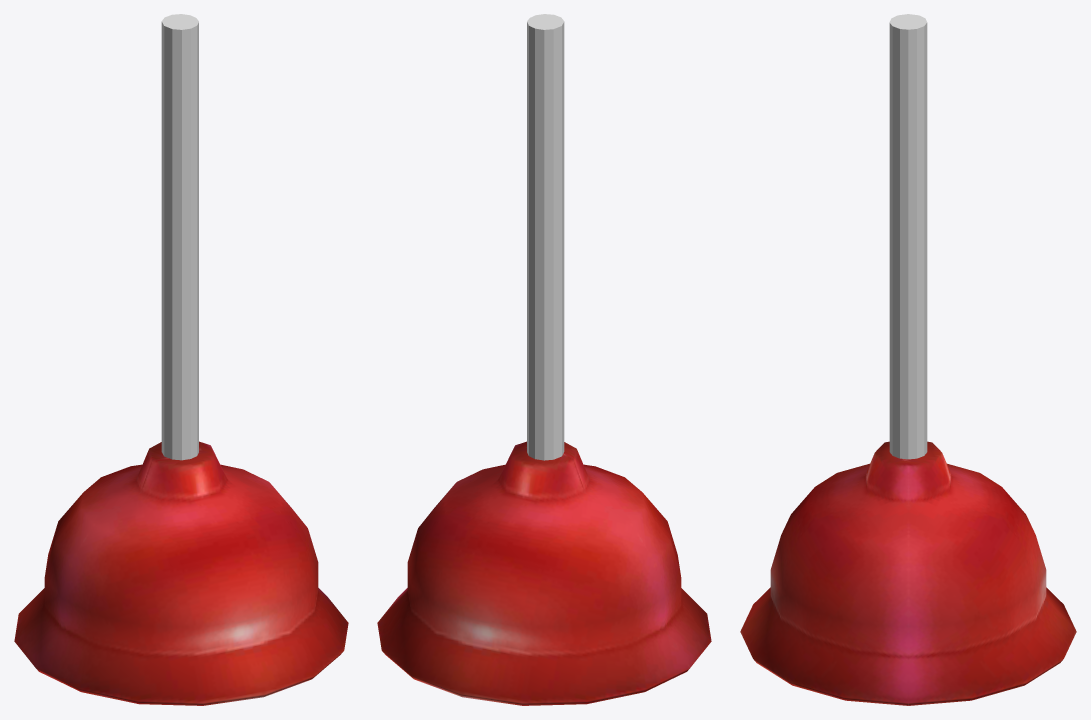
File: ToiletPlunger.fbx
3 views of the same model, side by side, from view 1: azimuth 30°, elevation 25°; view 2: azimuth 150°, elevation 25°; view 3: azimuth 270°, elevation 25° (orthographic).
Parts seen in each view (by area): view 1: ToiletPlunger; view 2: ToiletPlunger; view 3: ToiletPlunger.
Boxes of the visible parts, x1,y1,x2,y2 form: ToiletPlunger: (14, 14, 348, 705); ToiletPlunger: (377, 14, 711, 705); ToiletPlunger: (740, 14, 1076, 705).
Bounding box in the file's own units: 93.12 × 188 × 93.12.
